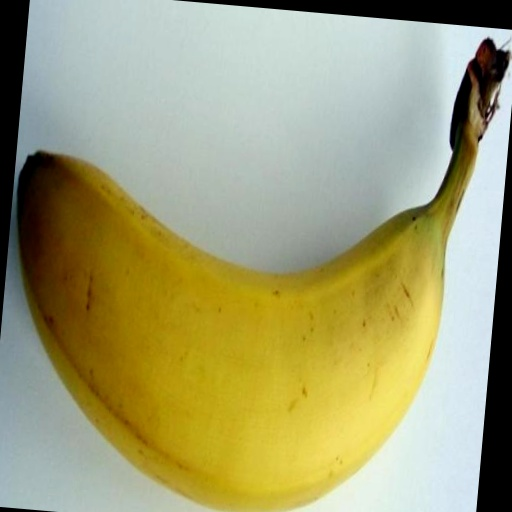fruit: (18, 40, 509, 512)
